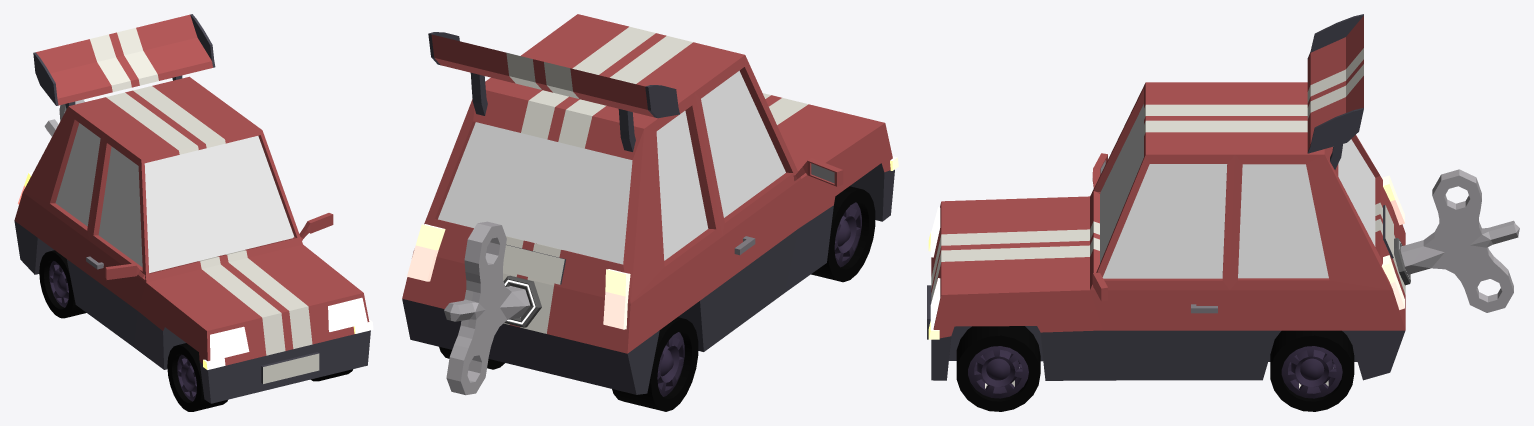
File: TheTuture.glb
3 views of the same model, side by side, from view 1: azimuth 30°, elevation 25°; view 2: azimuth 150°, elevation 25°; view 3: azimuth 270°, elevation 25° (orthographic). The views are drawn at different scales.
Parts seen in each view (by area): view 1: voiture, Aileron, FR wheel, BR wheel; view 2: voiture, Aileron, key.001, BR wheel, FR wheel, KeyholeV2.001; view 3: voiture, key.001, Aileron, FL wheel, BL wheel.
Part boxes in pixels (<box>): voiture: <box>14,76,373,403</box>; Aileron: <box>33,14,215,109</box>; FR wheel: <box>167,343,227,411</box>; BR wheel: <box>39,250,86,318</box>; voiture: <box>402,14,898,394</box>; Aileron: <box>428,32,679,151</box>; key.001: <box>444,221,530,395</box>; BR wheel: <box>612,317,698,411</box>; FR wheel: <box>811,186,875,282</box>; KeyholeV2.001: <box>503,275,541,327</box>; voiture: <box>927,82,1405,380</box>; key.001: <box>1400,169,1519,312</box>; Aileron: <box>1307,14,1363,169</box>; FL wheel: <box>956,326,1040,411</box>; BL wheel: <box>1270,330,1354,411</box>.
Size of the model in its own units: 2.89 by 3.02 by 5.35.
Materials: 9 (2 with a texture image).
